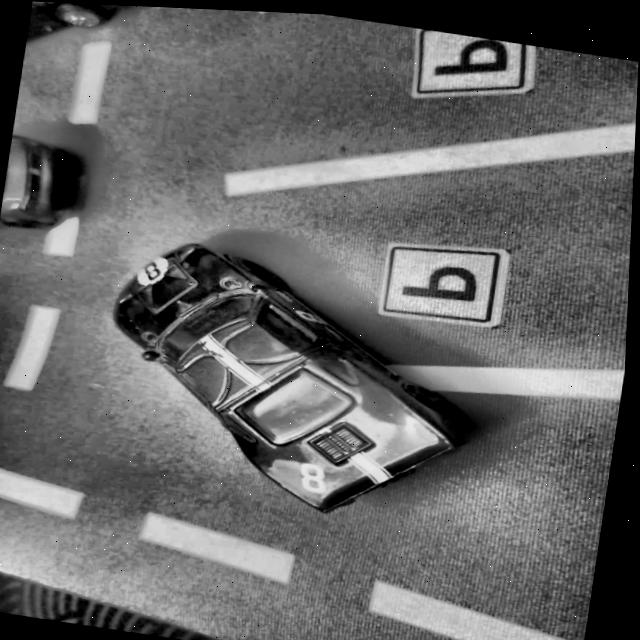car: (90, 228, 496, 528), (0, 132, 76, 245), (24, 1, 132, 68)
